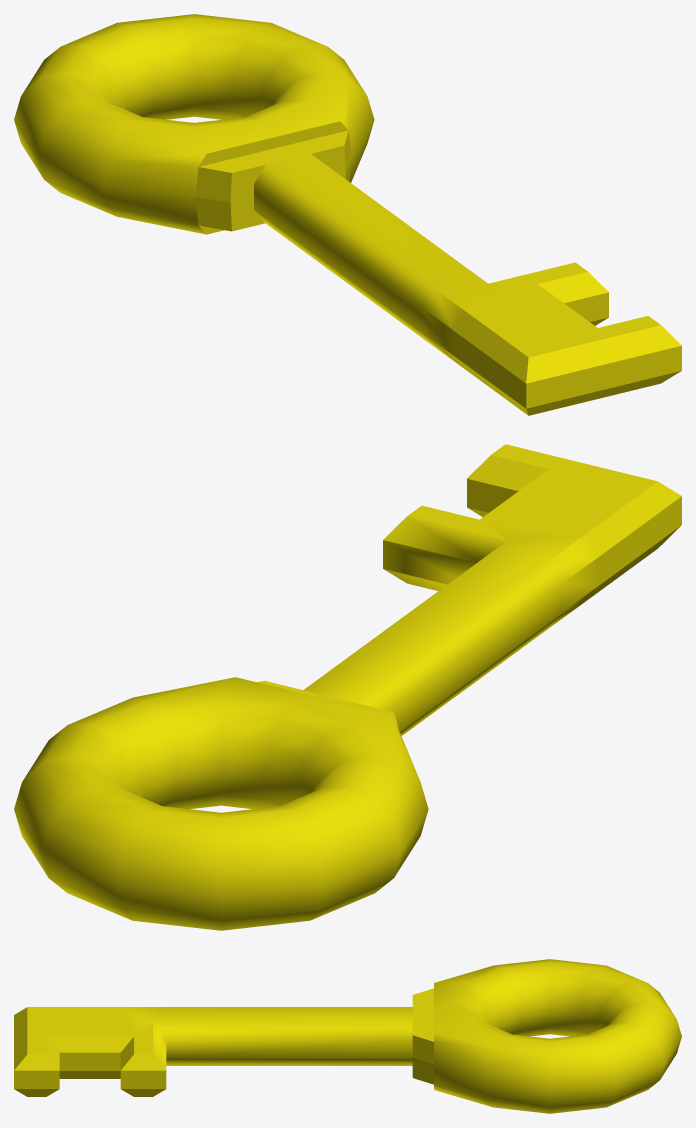
Rendered from KeyGolden01_Ben.fbx.
3 views of the same model, one above another, from view 1: azimuth 30°, elevation 25°; view 2: azimuth 150°, elevation 25°; view 3: azimuth 270°, elevation 25° (orthographic). The views are drawn at different scales.
Visible parts, largest first — view 1: Key; view 2: Key; view 3: Key.
Part boxes in pixels (left/top/right/bottom): Key: left=14, top=14, right=681, bottom=415; Key: left=14, top=444, right=681, bottom=930; Key: left=14, top=959, right=681, bottom=1113.
Size of the model in its own units: 2.93 by 0.8381 by 7.43.
